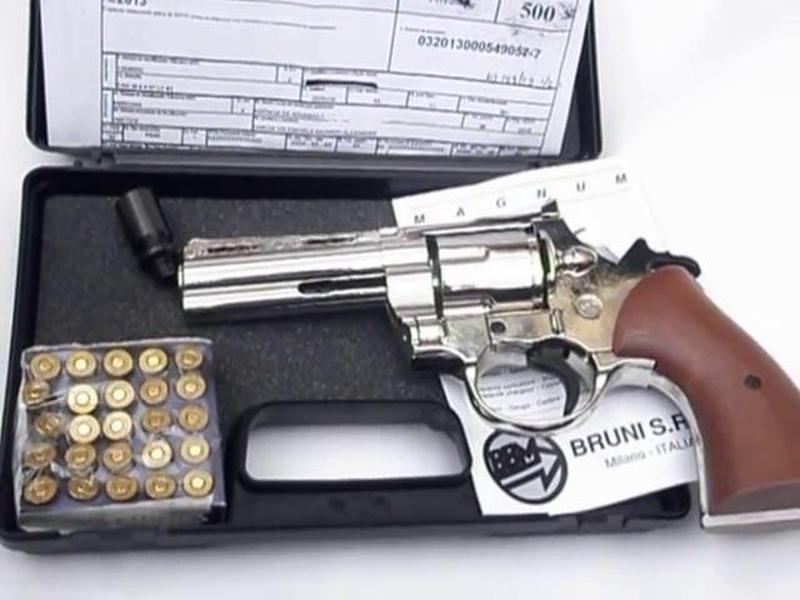Revolver: (155, 218, 777, 476)
